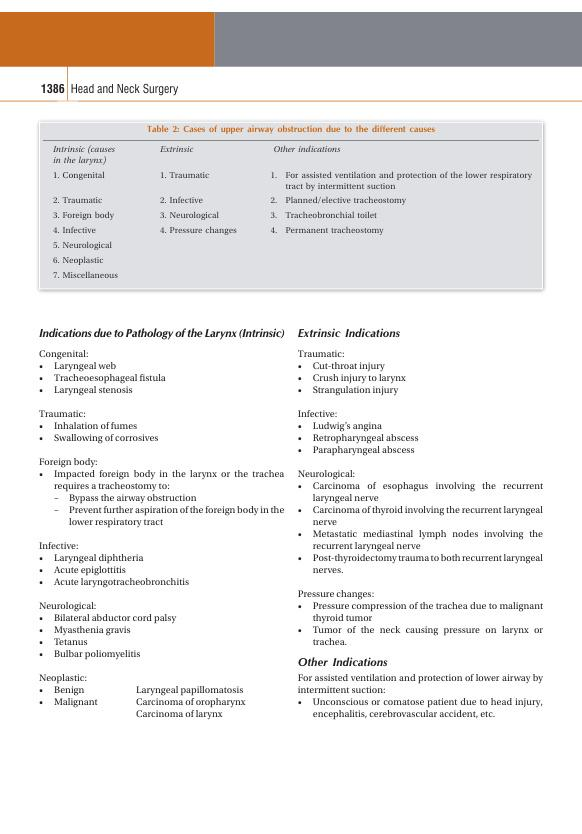caption: (146, 124, 436, 135)
header: (70, 82, 180, 96)
list: (37, 347, 287, 722), (294, 346, 547, 649), (297, 696, 544, 722)
sub-section-heading: (37, 325, 287, 340), (296, 325, 402, 339), (296, 656, 391, 668)
table: (38, 138, 544, 291)
text: (297, 672, 545, 695)
